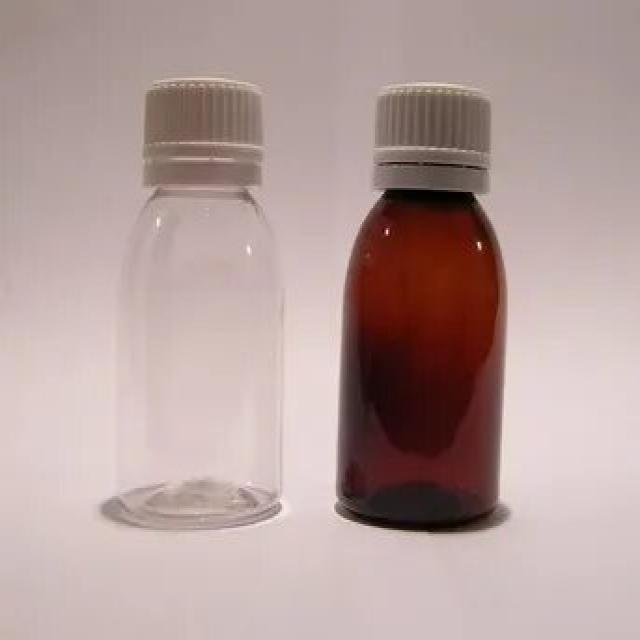brown: (338, 194, 506, 528)
